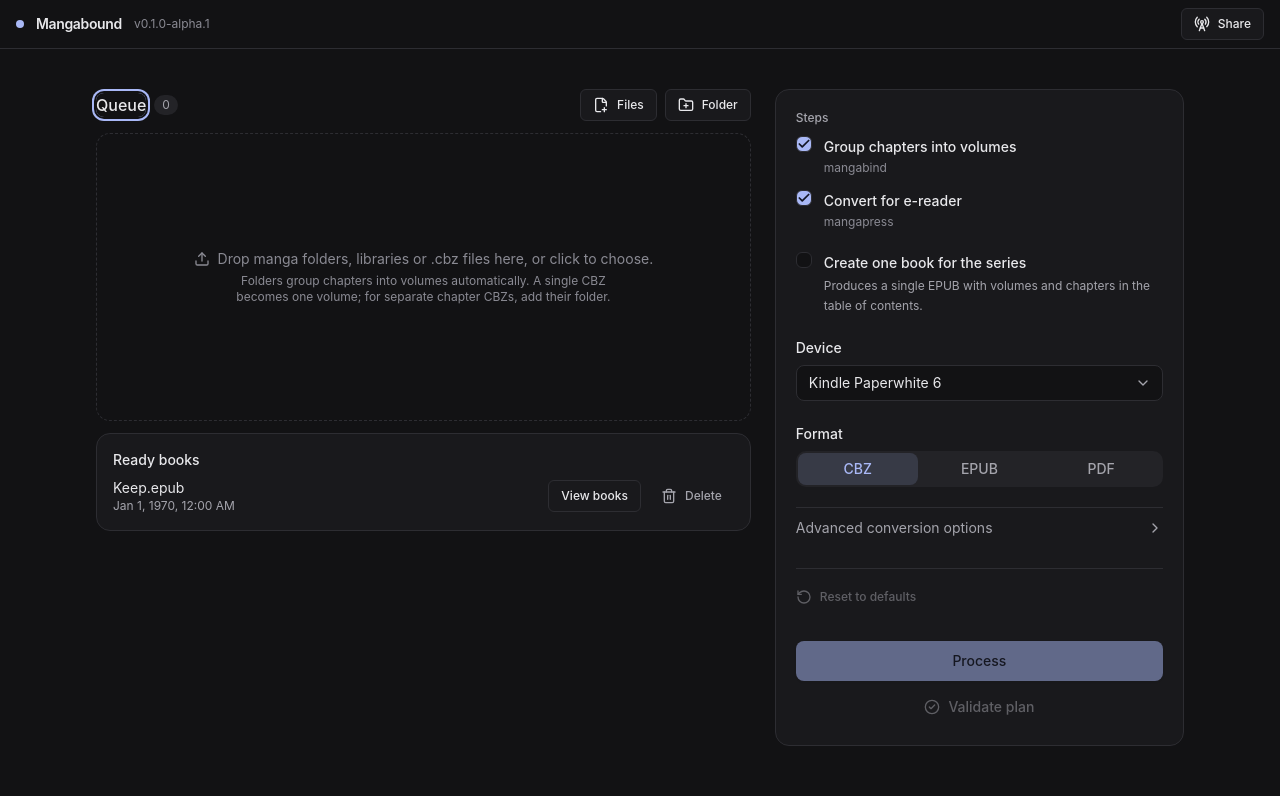
Test case: queue application workflow › keeps pending books visible when deletion fails
The width and height of the screenshot is (1280, 796).
Click the button with aria-label "Delete pending books from Keep.epub" at (691, 496), box [649,480,734,512]
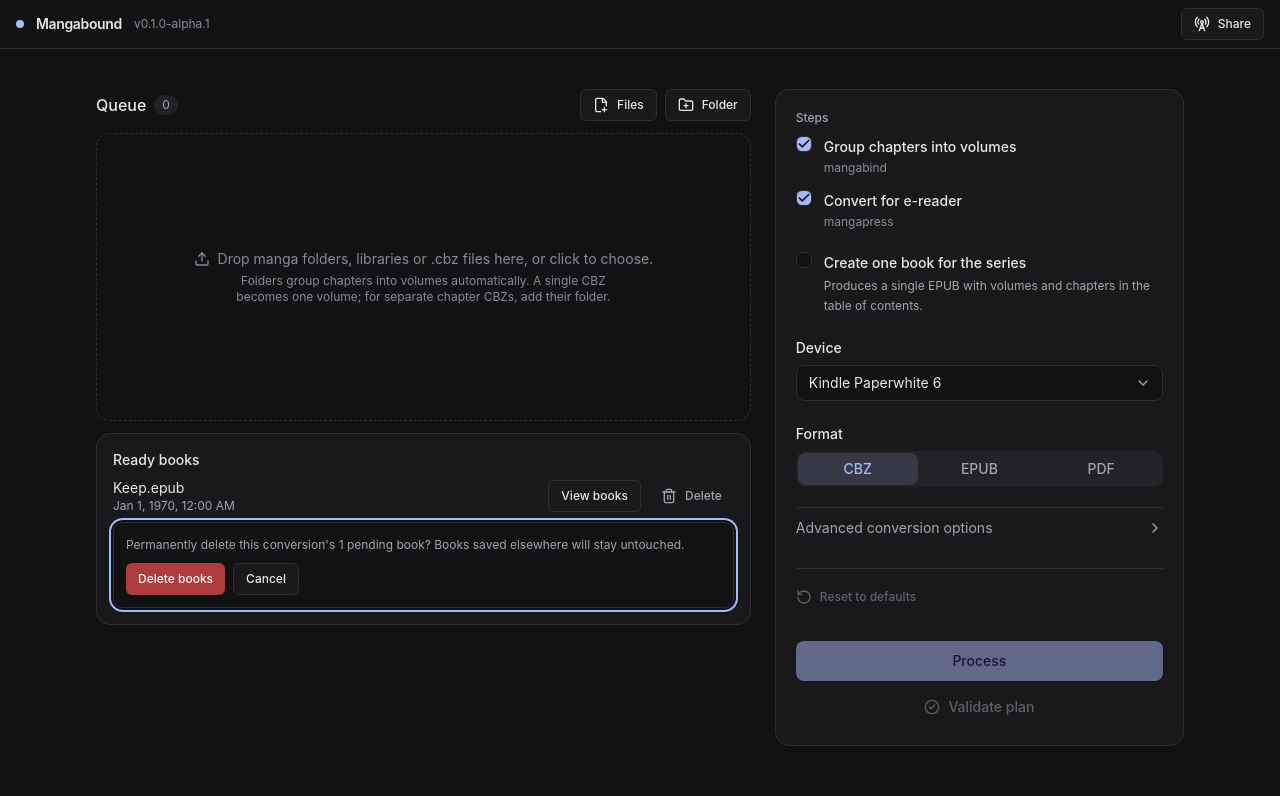
Click the button "Delete books" at (176, 578), box [126,562,225,594]
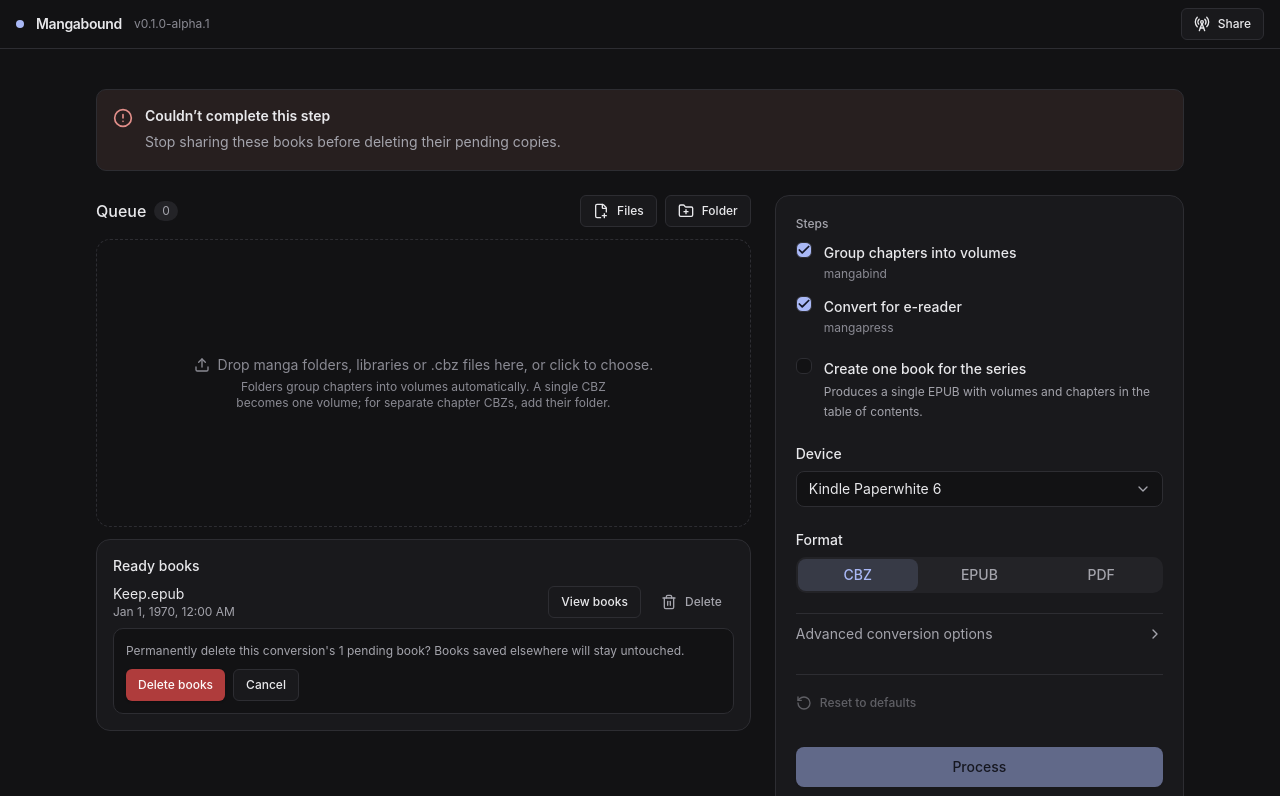
Expected: the button with aria-label "View books from Keep.epub" is shown, [548,586,641,618]
Result: the text "Stop sharing these books before deleting their pending copies." is shown at [145,130,561,154]
